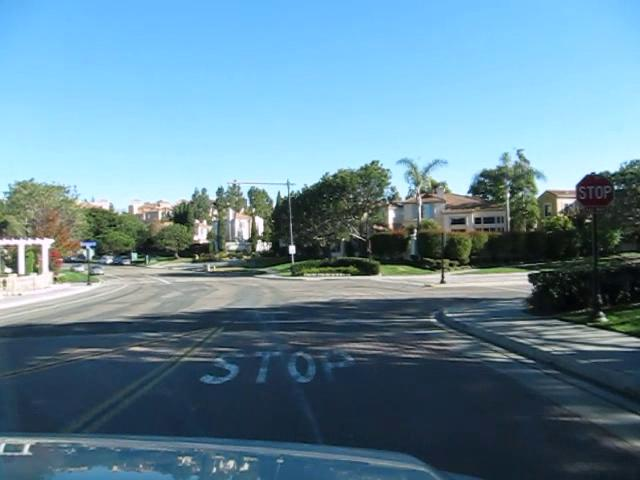stop: (575, 172, 614, 213)
